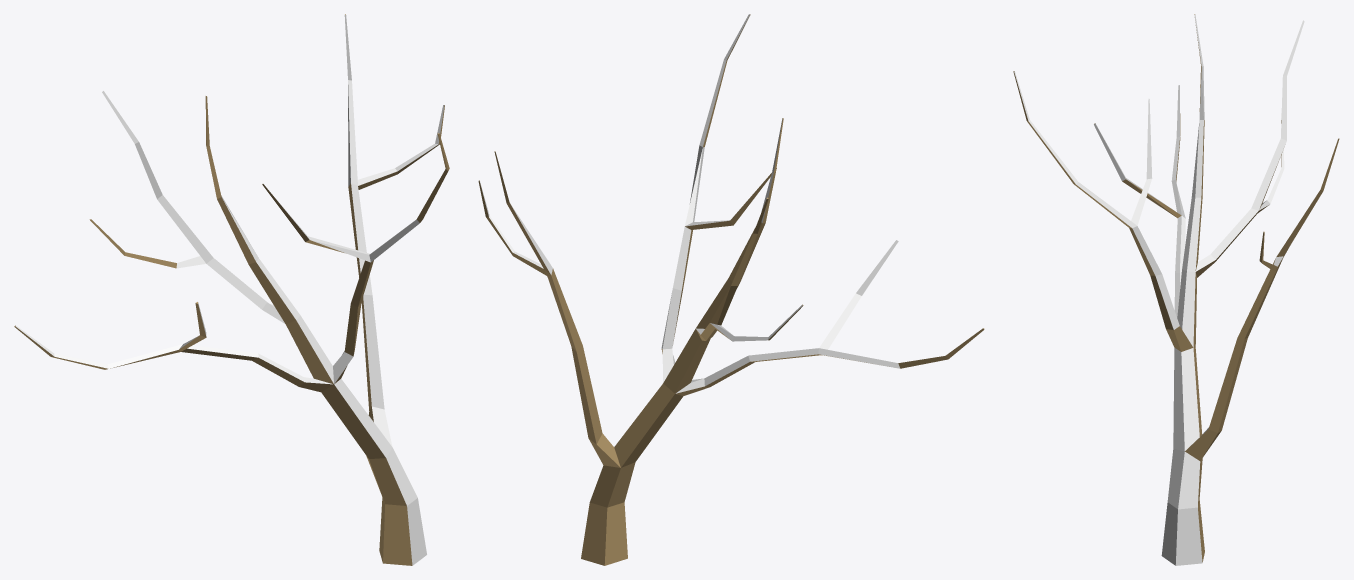
File: Acacia_Tree_NoLeaves_l_Snow_BT_03.fbx
3 views of the same model, side by side, from view 1: azimuth 30°, elevation 25°; view 2: azimuth 150°, elevation 25°; view 3: azimuth 270°, elevation 25° (orthographic). The views are drawn at different scales.
Parts seen in each view (by area): view 1: Acacia_Tree_NoLeaves_l_Snow_BT_03; view 2: Acacia_Tree_NoLeaves_l_Snow_BT_03; view 3: Acacia_Tree_NoLeaves_l_Snow_BT_03.
Boxes of the visible parts, x1=… form: Acacia_Tree_NoLeaves_l_Snow_BT_03: x1=14, y1=14, x2=449, y2=565; Acacia_Tree_NoLeaves_l_Snow_BT_03: x1=478, y1=14, x2=984, y2=565; Acacia_Tree_NoLeaves_l_Snow_BT_03: x1=1013, y1=14, x2=1339, y2=565.
Size of the model in its own units: 1102 by 1115 by 716.
